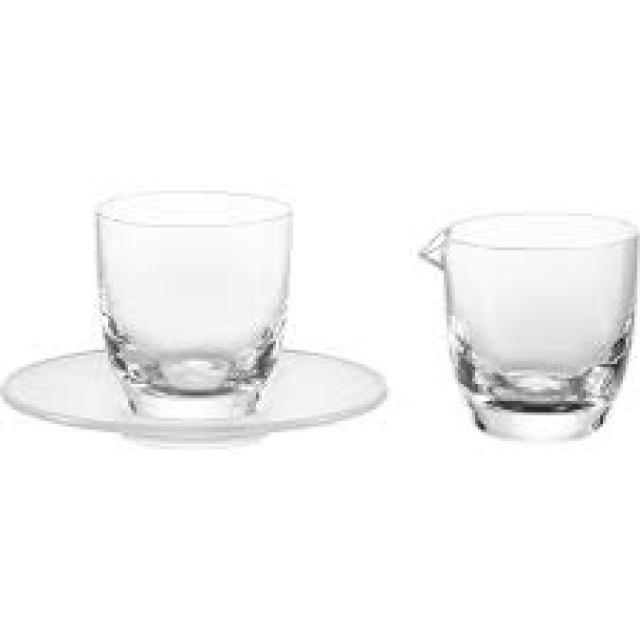Glass: (3, 164, 400, 464), (405, 180, 639, 448)
